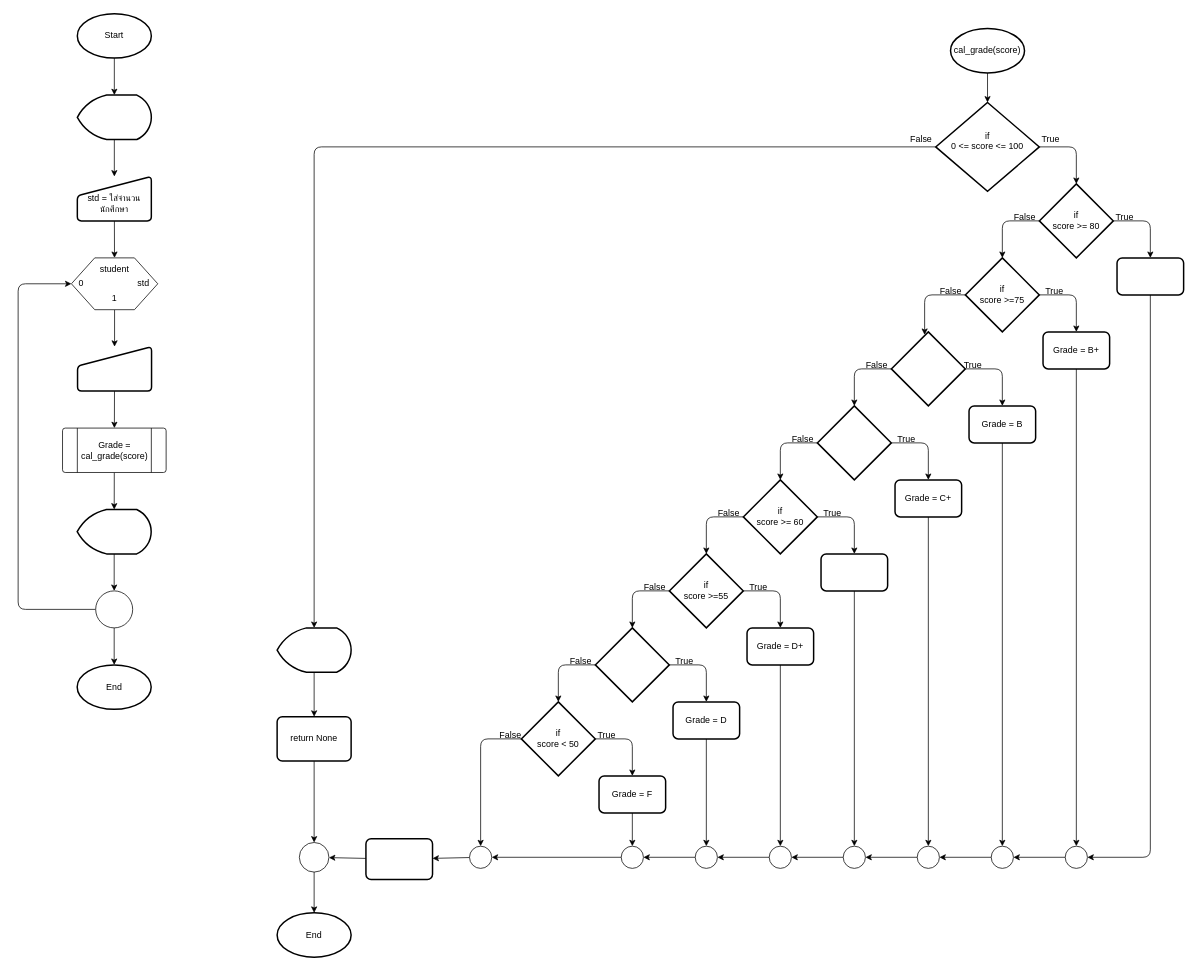
Image size: 1197x970. Some labels were removed from this diagram. The centre of each missing label's shape, as x and y in pixels:
Enter Score :: the point at 114,368
Grade = A: the point at 1150,276
Grade = C: the point at 854,572
if score >= 50: the point at 632,664
if score >= 70: the point at 928,368
if score >=65: the point at 854,442
print Error!!: the point at 314,650
print Grade: the point at 114,531
return Grade: the point at 399,859
โปรแกรมคํานวณเกรด: the point at 114,117
